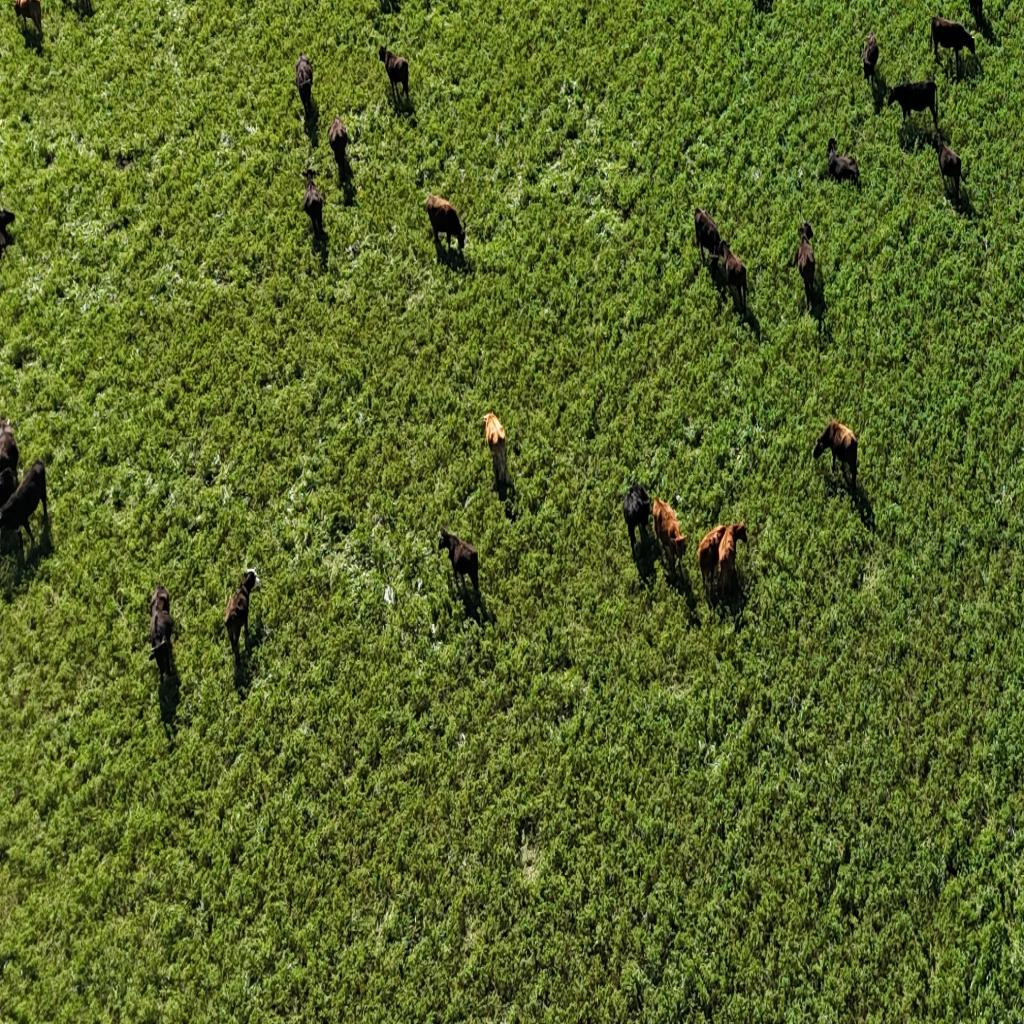cow: (11, 1, 117, 64), (625, 482, 689, 586), (693, 207, 747, 315), (0, 459, 50, 561), (333, 92, 372, 214), (718, 510, 758, 611), (928, 6, 980, 76), (812, 419, 860, 494), (13, 0, 60, 70), (437, 528, 481, 602), (224, 567, 258, 660), (885, 78, 938, 134), (424, 190, 466, 258), (147, 582, 175, 684), (793, 214, 818, 317), (376, 41, 412, 110), (482, 407, 510, 491), (622, 482, 652, 553), (930, 131, 960, 201), (698, 526, 724, 605), (824, 136, 860, 186), (294, 48, 316, 124), (302, 163, 324, 237), (960, 0, 996, 40), (0, 418, 20, 487), (860, 29, 880, 85), (13, 0, 43, 34), (0, 205, 16, 264), (798, 217, 814, 246), (717, 235, 730, 261), (826, 136, 837, 160)
